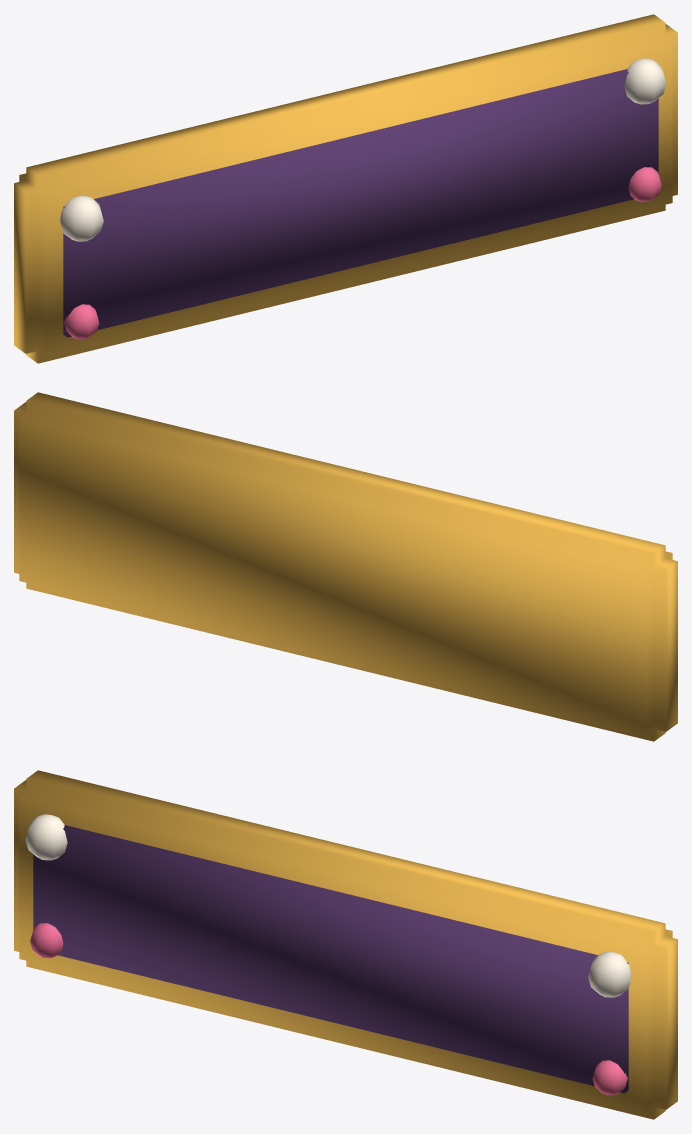
Rendered from SignboardNew.fbx.
3 views of the same model, one above another, from view 1: azimuth 30°, elevation 25°; view 2: azimuth 150°, elevation 25°; view 3: azimuth 330°, elevation 25° (orthographic).
Visible parts, largest first — view 1: SignboardNew; view 2: SignboardNew; view 3: SignboardNew.
Part boxes in pixels (x1,y1,x2,y2): SignboardNew: (14, 14, 677, 363); SignboardNew: (14, 392, 677, 741); SignboardNew: (14, 770, 677, 1119).
Size of the model in its own units: 3.2 by 0.88 by 0.35.
